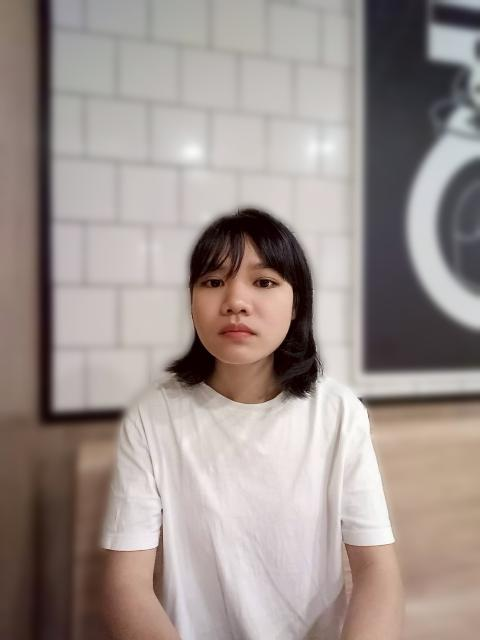fokus: (189, 219, 307, 367)
